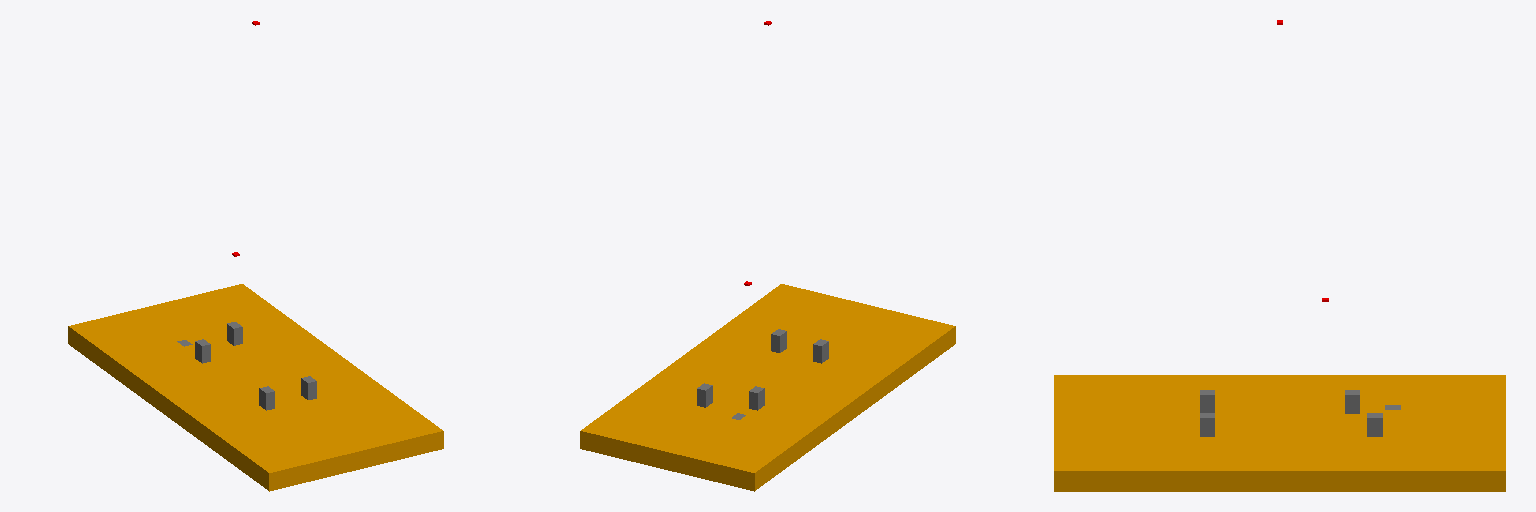
URDF robot description (wall_with_hold):
<robot name="wall_with_hold">
  
  <material name="brown">
    <color rgb="205 127 50" />
  </material>
  <material name="gray">
    <color rgba="0.5 0.5 0.5 1" />
  </material>

  
  <link name="wall">
    
    <visual>
      <geometry>
        <box size="1 2 0.1" />
      </geometry>
      <material name="brown" />
    </visual>
    <collision>
      <geometry>
        <box size="1 2 0.1" />
      </geometry>
    </collision>
    <inertial>
      
      <mass value="10" />
      <inertia ixx="1" ixy="0" ixz="0" iyy="1" iyz="0" izz="1" />
    </inertial>
  </link>
    <link name="parent_link">

  
   <inertial>
    
    <mass value="0" />
    <inertia ixx="0" ixy="0" ixz="0" iyy="0" iyz="0" izz="0" />
   </inertial>
  </link>
  <joint name="wall_joint" type="fixed">
    <parent link="parent_link" />
    <child link="wall" />
    <origin xyz="0 0 0" rpy="0 0 0.0" />
  </joint>

  <link name="hold1">
    
    <visual>
      <geometry>
        <box size="0.05 0.07 0.15" />
      </geometry>
      <material name="gray" />
    </visual>
    <collision>
      <geometry>
        <box size="0.05 0.07 0.15" />
      </geometry>
    </collision>
    <inertial>
      
      <mass value="1" />
      <inertia ixx="1" ixy="0" ixz="0" iyy="1" iyz="0" izz="1" />
    </inertial>
  </link>

  <link name="hold2">
    
    <visual>
      <geometry>
        <box size="0.05 0.07 0.15" />
      </geometry>
      <material name="gray" />
    </visual>
    <collision>
      <geometry>
        <box size="0.05 0.07 0.15" />
      </geometry>
    </collision>
    <inertial>
      
      <mass value="1" />
      <inertia ixx="1" ixy="0" ixz="0" iyy="1" iyz="0" izz="1" />
    </inertial>
  </link>

    <link name="hold3">
    
    <visual>
      <geometry>
        <box size="0.05 0.07 0.15" />
      </geometry>
      <material name="gray" />
    </visual>
    <collision>
      <geometry>
        <box size="0.05 0.07 0.15" />
      </geometry>
    </collision>
    <inertial>
      
      <mass value="1" />
      <inertia ixx="1" ixy="0" ixz="0" iyy="1" iyz="0" izz="1" />
    </inertial>
  </link>

  <link name="hold4">
    
    <visual>
      <geometry>
        <box size="0.05 0.07 0.15" />
      </geometry>
      <material name="gray" />
    </visual>
    <collision>
      <geometry>
        <box size="0.05 0.07 0.15" />
      </geometry>
    </collision>
    <inertial>
      
      <mass value="1" />
      <inertia ixx="1" ixy="0" ixz="0" iyy="1" iyz="0" izz="1" />
    </inertial>
  </link>

  <link name="hold5">
    
    <visual>
      <geometry>
        <box size="0.05 0.07 0.0" />
      </geometry>
      <material name="gray" />
    </visual>
    <collision>
      <geometry>
        <box size="0.05 0.07 0.0" />
      </geometry>
    </collision>
    <inertial>
      
      <mass value="1" />
      <inertia ixx="1" ixy="0" ixz="0" iyy="1" iyz="0" izz="1" />
    </inertial>
  </link>

  
  <joint name="wall_hold_joint" type="fixed">
    
    <origin xyz="-0.12 0.32 0.07" rpy="3.14 0 0.0" />
    <parent link="wall" />
    <child link="hold1" />
  </joint>

  <joint name="wall_hold_joint2" type="fixed">
    
    <origin xyz="0.12 0.42 0.07" rpy="3.14 0 0.0" />
    <parent link="wall" />
    <child link="hold2" />
  </joint>

  <joint name="wall_hold_joint3" type="fixed">
    
    <origin xyz="0.12 -0.32 0.07" rpy="3.14 0 0.0" />
    <parent link="wall" />
    <child link="hold3" />
  </joint>

  <joint name="wall_hold_joint4" type="fixed">
    
    <origin xyz="-0.12 -0.32 0.07" rpy="3.14 0 0.0" />
    <parent link="wall" />
    <child link="hold4" />
  </joint>

  <joint name="wall_hold_joint5" type="fixed">
    
    <origin xyz="-0.12 0.5 0.07" rpy="3.14 0 0.0" />
    <parent link="wall" />
    <child link="hold5" />
  </joint>

  
  <joint name="body_camera_joint" type="fixed">
    <parent link="wall" />
    <child link="body_camera_link" />
        <origin xyz="0 0.2 .65" rpy="0 0 0" />
  </joint>

  <link name="body_camera_link">
      <visual>
          <geometry>
              <box size="0.03 0.03 0.01" />
          </geometry>
          <material name="red">
            <color rgba="1.0 0.0 0.0 1.0" />
          </material>
      </visual>
      <sensor name="bodyCamera" type="camera">
        <origin xyz="0 0 0" rpy="0 -90 0" />
        <camera name="camera_sensor">
          <horizontal_fov>60</horizontal_fov>
          <image>
            <width>640</width>
            <height>480</height>
            <format>R8G8B8</format>
          </image>
          <clip>
            <near>0.01</near>
            <far>100</far>
          </clip>
      </camera>
    </sensor>
  </link>

  <joint name="above_camera_joint" type="floating">
      <parent link="wall" />
      <child link="above_camera_link" />
      <origin xyz="0 0 2" rpy="0 0 0" />
  </joint>

  <link name="above_camera_link">
      <visual>
          <geometry>
              <box size="0.03 0.03 0.01" />
          </geometry>
          <material name="red">
            <color rgba="1.0 0.0 0.0 1.0" />
          </material>
      </visual>
      <sensor name="bodyCamera" type="camera">
        <origin xyz="0 0 2" rpy="0 -90 0" />
        <camera name="camera_sensor">
          <horizontal_fov>60</horizontal_fov>
          <image>
            <width>640</width>
            <height>480</height>
            <format>R8G8B8</format>
          </image>
          <clip>
            <near>0.01</near>
            <far>100</far>
          </clip>
      </camera>
    </sensor>
  </link>

</robot>

--- Render facts (derived) ---
3 views of the same robot in one strip: view 1: azimuth 30°, elevation 25°; view 2: azimuth 150°, elevation 25°; view 3: azimuth 270°, elevation 25° (orthographic).
Robot: wall_with_hold — 9 links, 8 joints (7 fixed, 1 floating); root link parent_link; default pose: every joint at zero.
Visible links, largest first — view 1: wall; view 2: wall; view 3: wall.
Boxes of the visible links, bbox=[...] form: wall: bbox=[68, 284, 443, 491]; wall: bbox=[580, 284, 955, 491]; wall: bbox=[1054, 375, 1505, 491].
Bounding box of the posed robot: 1 × 2 × 2.06 m (x, y, z).
Geometry: primitives only (box / cylinder / sphere), no mesh files.